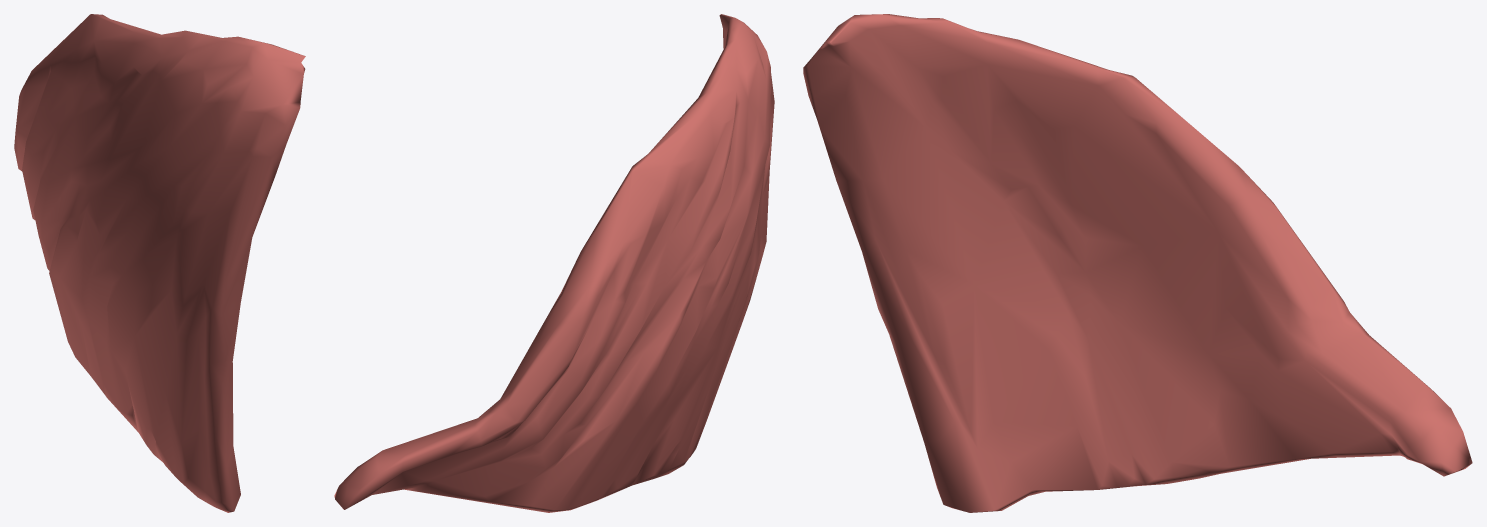
3 views of the same model, side by side, from view 1: azimuth 30°, elevation 25°; view 2: azimuth 150°, elevation 25°; view 3: azimuth 270°, elevation 25° (orthographic). The views are drawn at different scales.
Visible parts, largest first — view 1: 右侧颊肌; view 2: 右侧颊肌; view 3: 右侧颊肌.
Part boxes in pixels (x1,y1,x2,y2): 右侧颊肌: (14,14,305,512); 右侧颊肌: (334,14,774,512); 右侧颊肌: (803,14,1472,512).
Bounding box in the file's own units: 0.0221 × 0.0426 × 0.0535.
